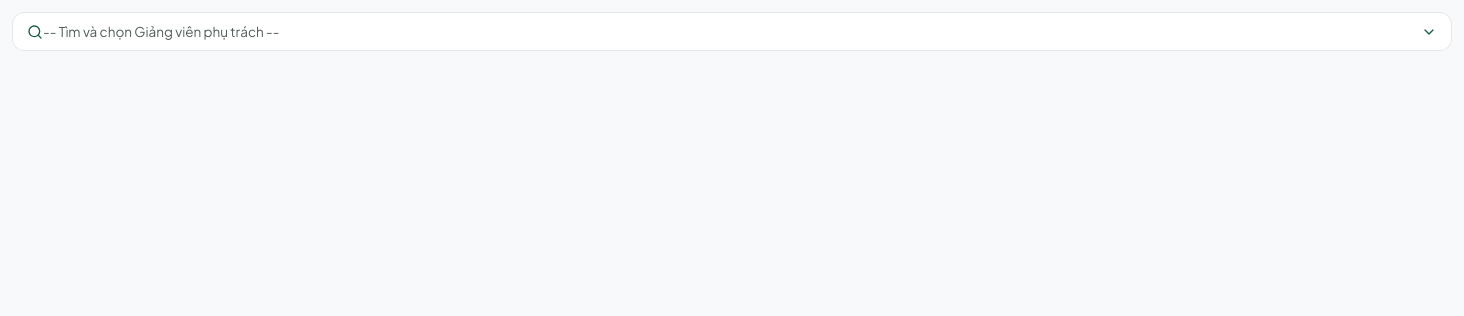
it: TeacherPicker component › fetches teachers from userService in self-managed mode when opened
What coordinates should you click on to do the following:
click the button "-- Tìm và chọn Giảng viên phụ trách --"
I would click on:
 (161, 32)
Its box is [12,12,1452,51].
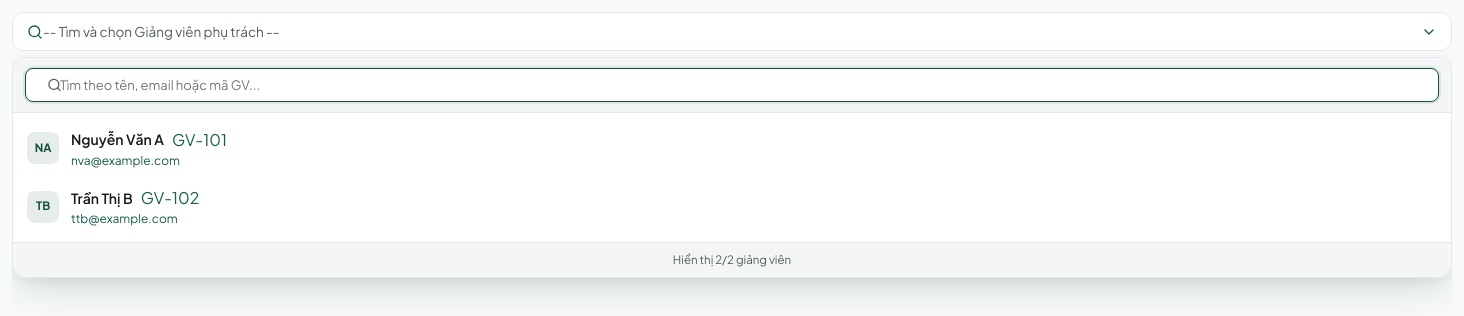
Check: the text "Nguyễn Văn A" is shown, box [71,129,164,150]
Check: the text "Hiển thị 2/2 giảng viên" is shown, box [13,242,1451,277]
